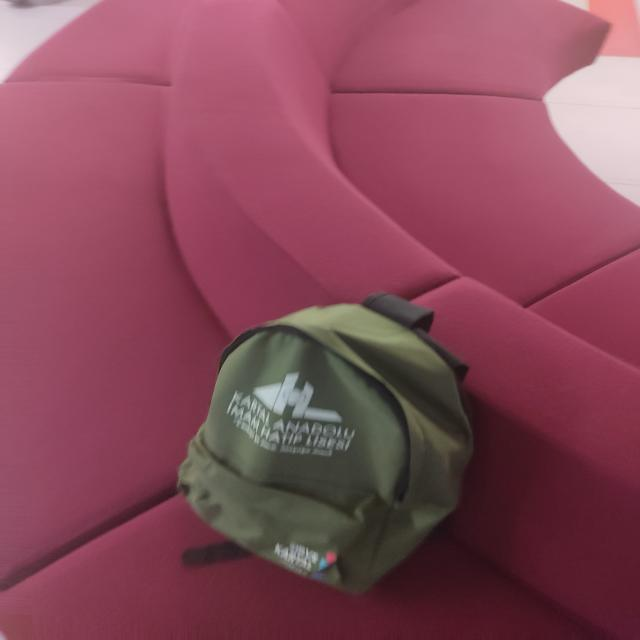bag: (180, 277, 473, 605)
